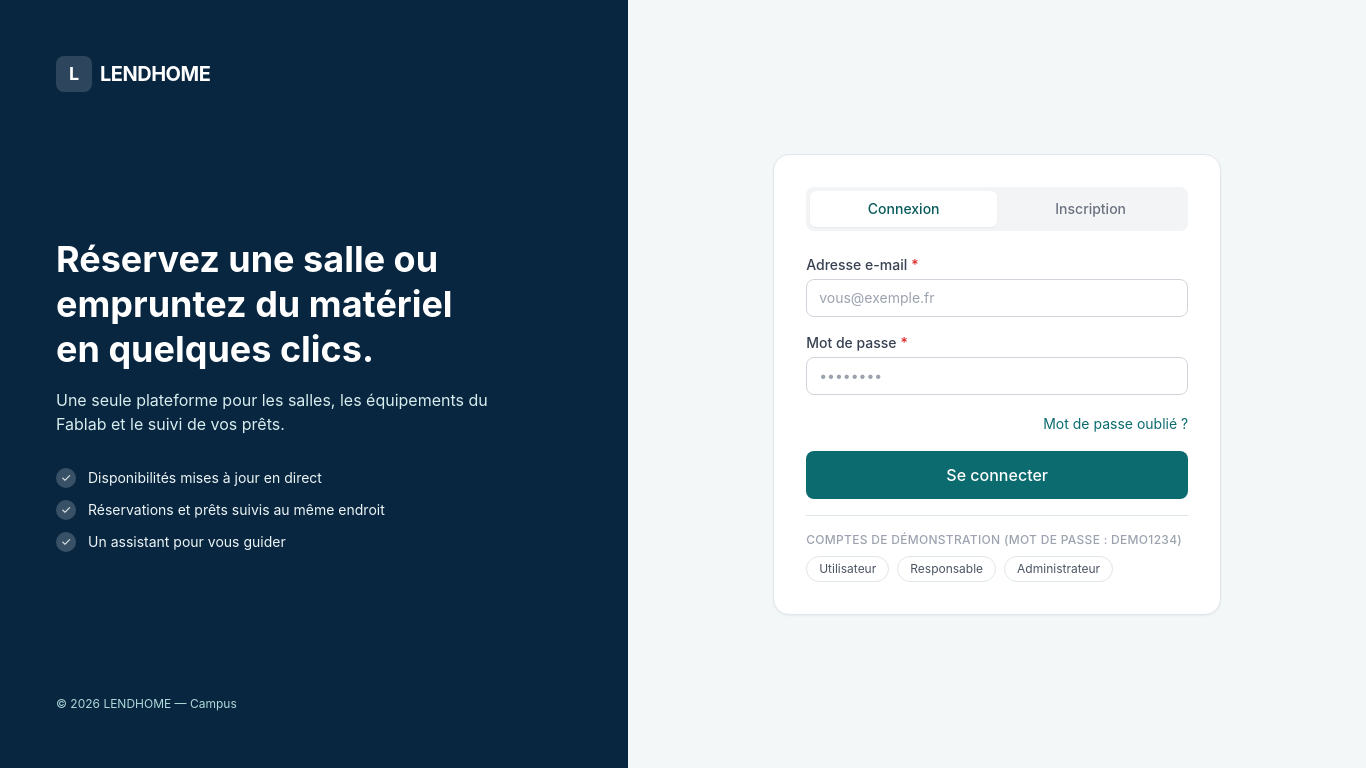
Test: LoginPage › affiche une erreur sur identifiants invalides
The image size is (1366, 768).
Type "alice@demo.fr" into the field labelled "Adresse e-mail*". click: (997, 298)
box: [806, 278, 1188, 316]
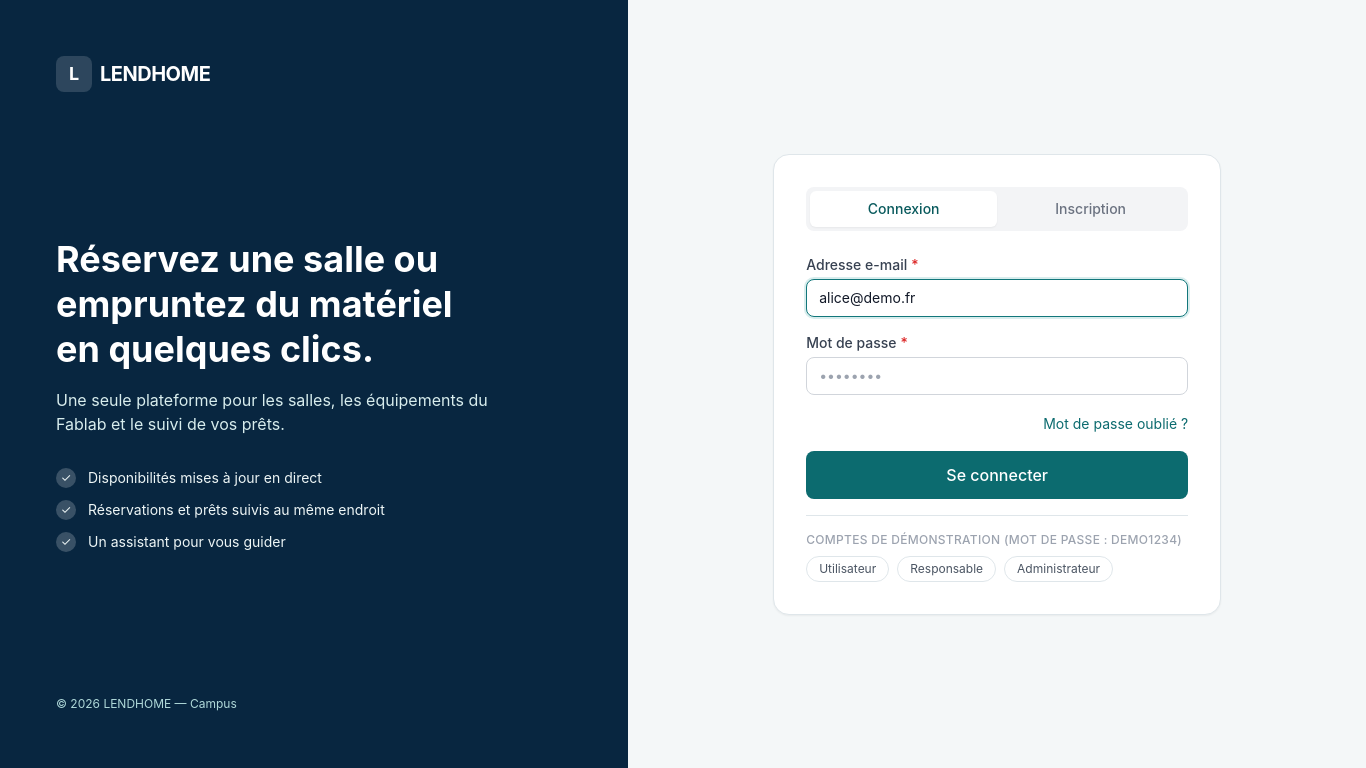
Type "mauvais-mdp" into the password field labelled "Mot de passe*". click: (997, 376)
box: [806, 356, 1188, 394]
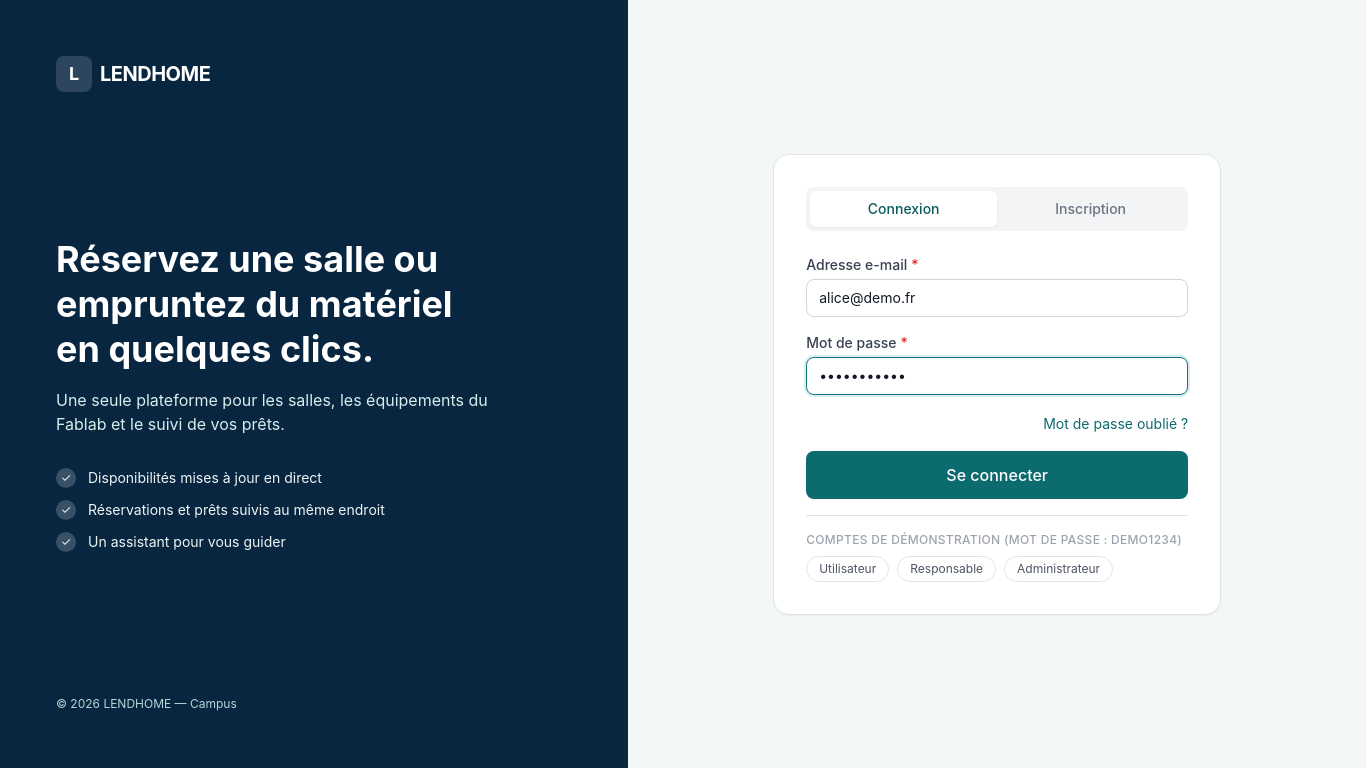
Click the button "Se connecter". click: (997, 474)
box: [806, 450, 1188, 498]
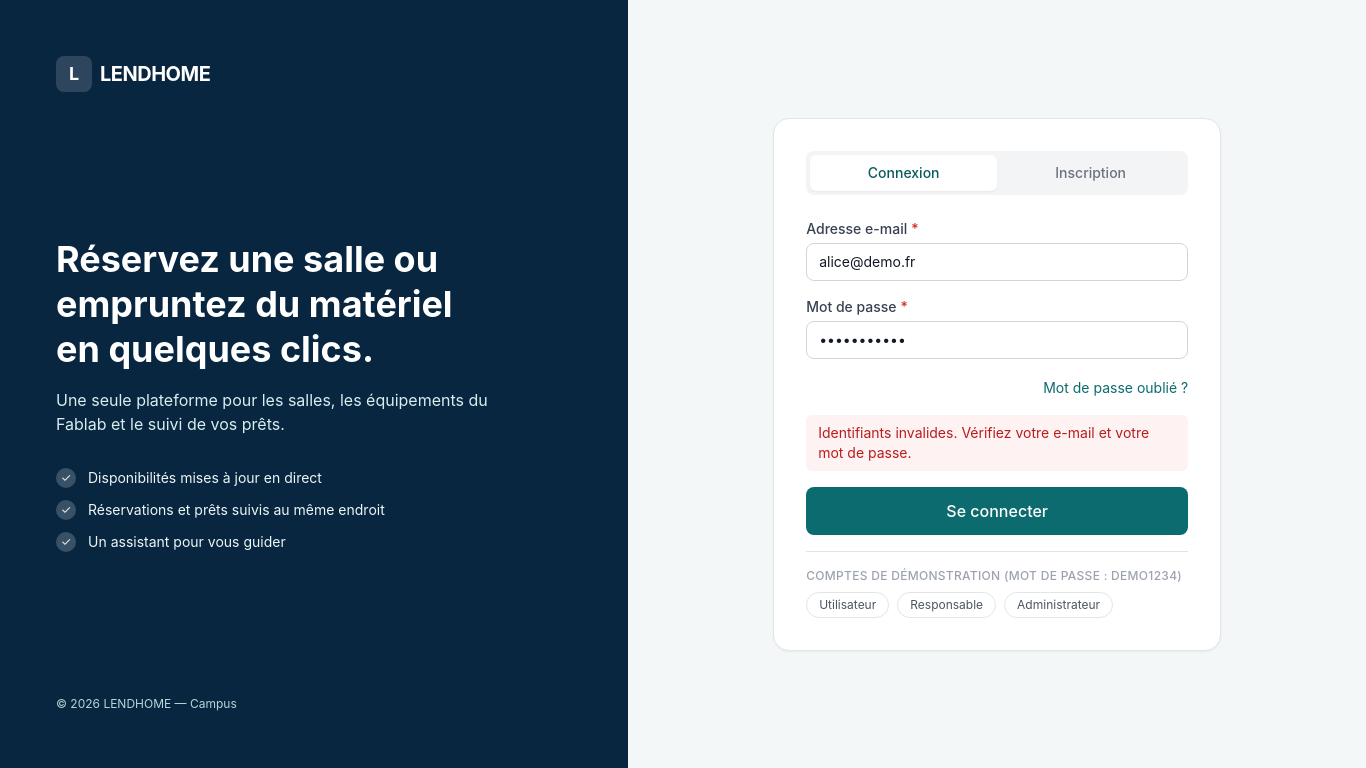
Check: the message shows "Identifiants invalides", box [818, 424, 1149, 460]
